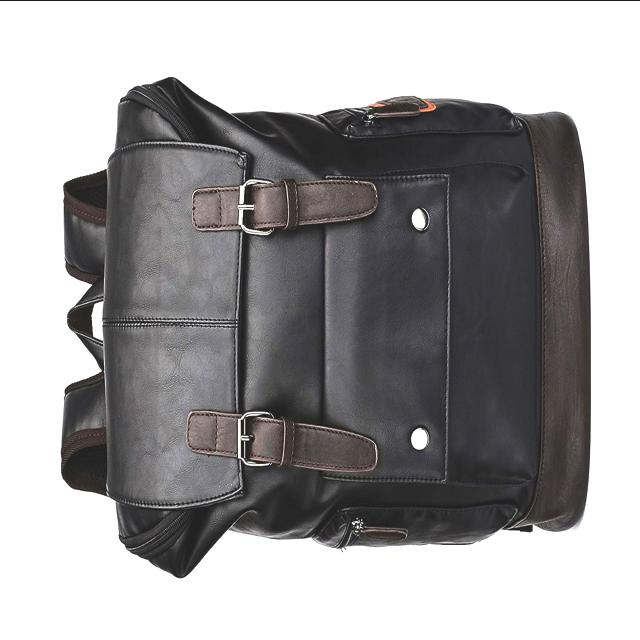backpack: (61, 77, 592, 579)
